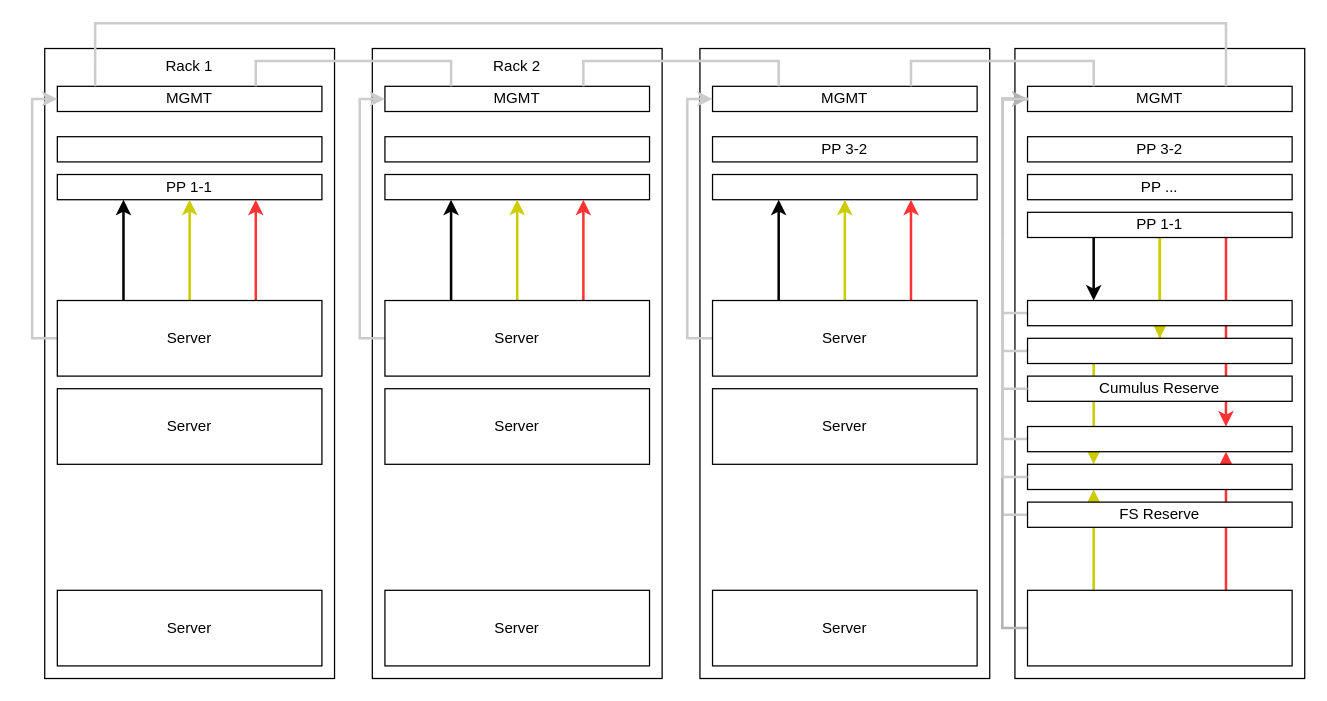
Some shapes in this 1327 by 701 pixel diagram are drawn without their labels. Each missing label, with the box of its shape:
Cumulus STB: (1026, 337, 1292, 364)
Cumulus STO: (1026, 299, 1292, 326)
FS FE: (1026, 463, 1292, 490)
FS SRV: (1026, 425, 1292, 452)
PP 1-2: (56, 135, 322, 162)
PP 2-1: (384, 173, 650, 200)
PP 2-2: (384, 135, 650, 162)
PP 3-1: (711, 173, 977, 200)
Rack 3: (699, 47, 990, 679)
Rack 4: (1014, 47, 1305, 679)
Router (2x): (1026, 589, 1292, 666)
